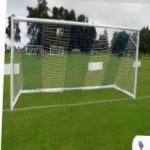goals: (7, 14, 143, 112)
